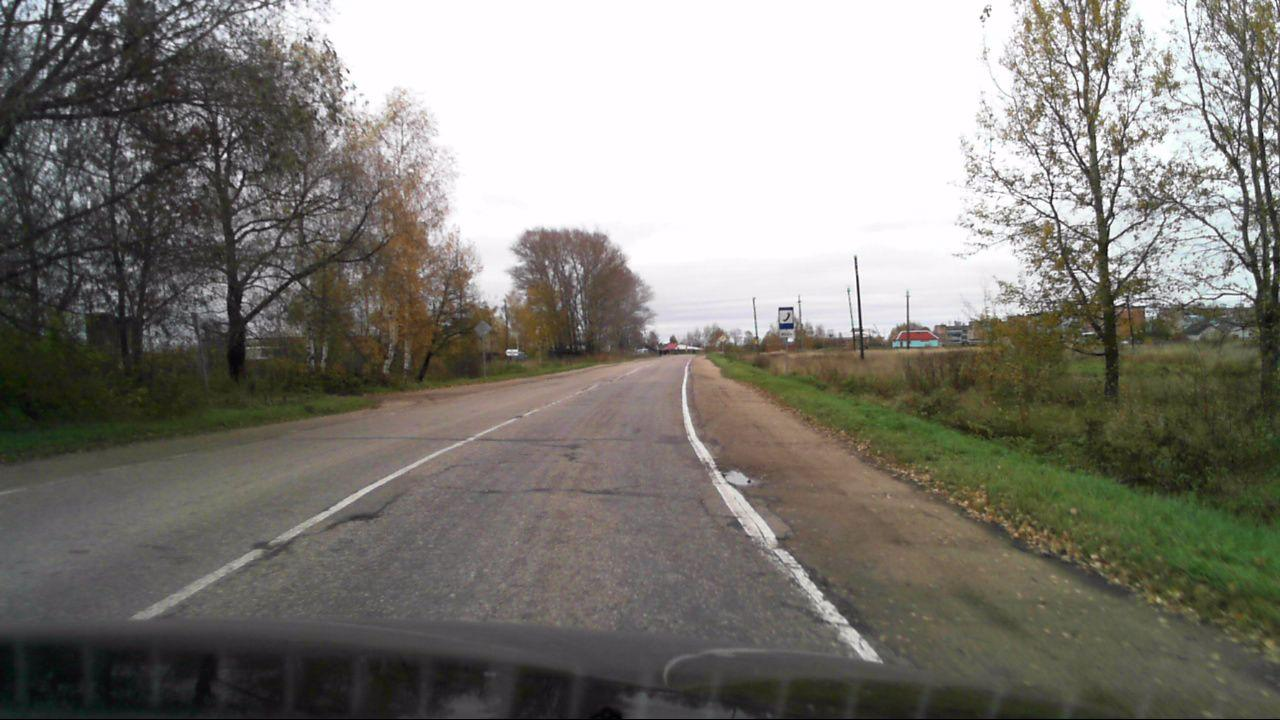2_1: (719, 335, 726, 342)
7_6: (778, 306, 794, 329)
8_1_1: (779, 330, 794, 337)
